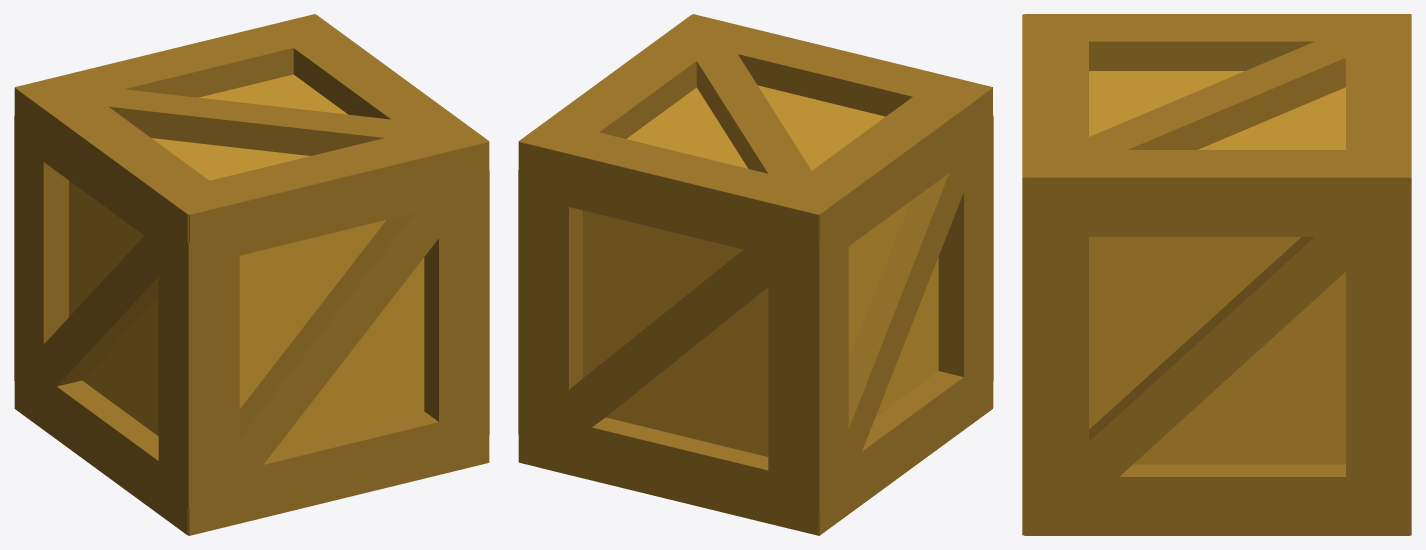
File: Crate Export.fbx
The picture shows the model from 3 angles, left to right: view 1: azimuth 30°, elevation 25°; view 2: azimuth 150°, elevation 25°; view 3: azimuth 270°, elevation 25°; orthographic projection. The views are drawn at different scales.
Visible parts, largest first — view 1: pasted__pasted__pasted__pasted__pCube2 (×7), pasted__pasted__pasted__pCube2 (×5), pCube1, pasted__pasted__pasted__pasted__pasted__pCube2 (×2), pasted__pasted__pCube2; view 2: pasted__pasted__pasted__pasted__pCube2 (×6), pasted__pasted__pCube2 (×3), pCube1, pasted__pasted__pasted__pCube2 (×3), pasted__pasted__pasted__pasted__pasted__pCube2 (×2), pasted__pCube2; view 3: pasted__pasted__pasted__pCube2 (×5), pasted__pasted__pasted__pasted__pCube2 (×4), pCube1, pasted__pasted__pCube2, pasted__pasted__pasted__pasted__pasted__pCube2.
Boxes of the visible parts, x1,y1,x2,y2 form: pasted__pasted__pasted__pasted__pCube2 (×7): [14, 14, 487, 535]; pasted__pasted__pasted__pCube2 (×5): [158, 124, 489, 535]; pCube1: [69, 74, 424, 447]; pasted__pasted__pasted__pasted__pasted__pCube2 (×2): [34, 89, 421, 392]; pasted__pasted__pCube2: [188, 231, 239, 508]; pasted__pasted__pasted__pasted__pCube2 (×6): [519, 14, 992, 535]; pasted__pasted__pCube2 (×3): [518, 141, 819, 535]; pCube1: [583, 85, 938, 456]; pasted__pasted__pasted__pCube2 (×3): [552, 19, 992, 431]; pasted__pasted__pasted__pasted__pasted__pCube2 (×2): [689, 43, 963, 470]; pasted__pCube2: [768, 231, 819, 507]; pasted__pasted__pasted__pCube2 (×5): [1022, 29, 1410, 535]; pasted__pasted__pasted__pasted__pCube2 (×4): [1024, 14, 1410, 486]; pCube1: [1089, 71, 1345, 464]; pasted__pasted__pCube2: [1024, 209, 1088, 505]; pasted__pasted__pasted__pasted__pasted__pCube2: [1070, 35, 1366, 160].
Bounding box in the file's own units: 2.38 × 2.43 × 2.39.
